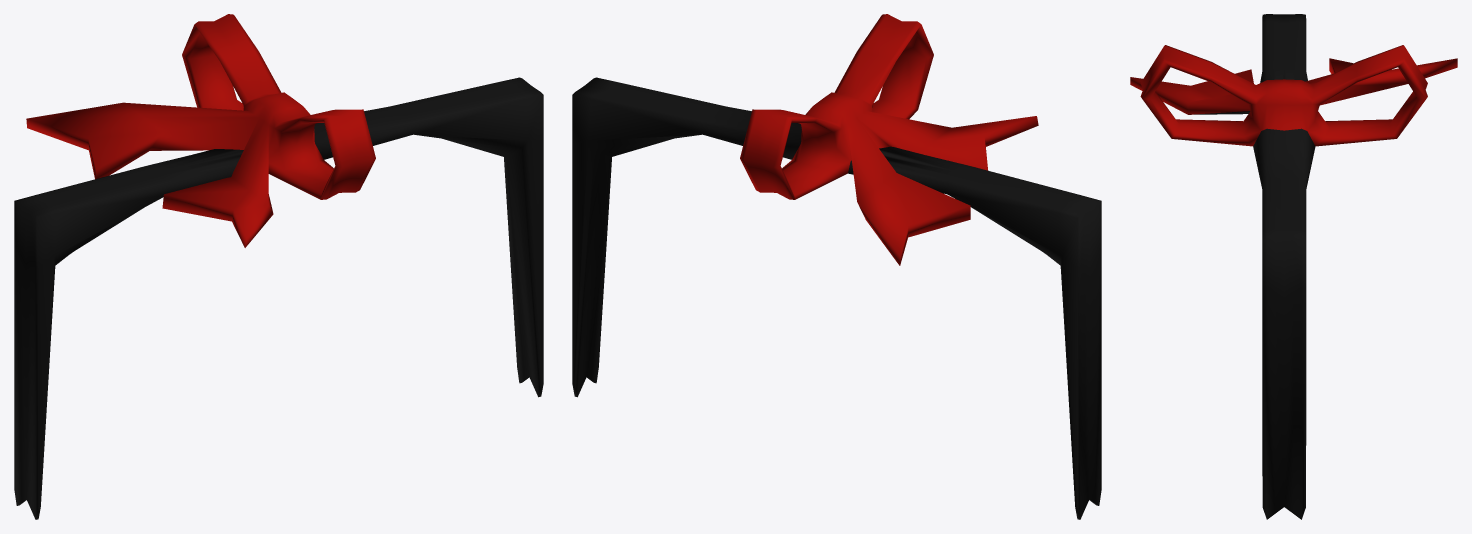
Rendered from Bowobj.obj.
3 views of the same model, side by side, from view 1: azimuth 30°, elevation 25°; view 2: azimuth 150°, elevation 25°; view 3: azimuth 270°, elevation 25° (orthographic). The views are drawn at different scales.
Visible parts, largest first — view 1: Cube; view 2: Cube; view 3: Cube.
Boxes of the visible parts, box(x1,y1,x2,y2) form: Cube: box(14, 14, 543, 519); Cube: box(572, 14, 1101, 519); Cube: box(1130, 14, 1457, 519).
Size of the model in its own units: 2.14 by 1.55 by 1.3.
